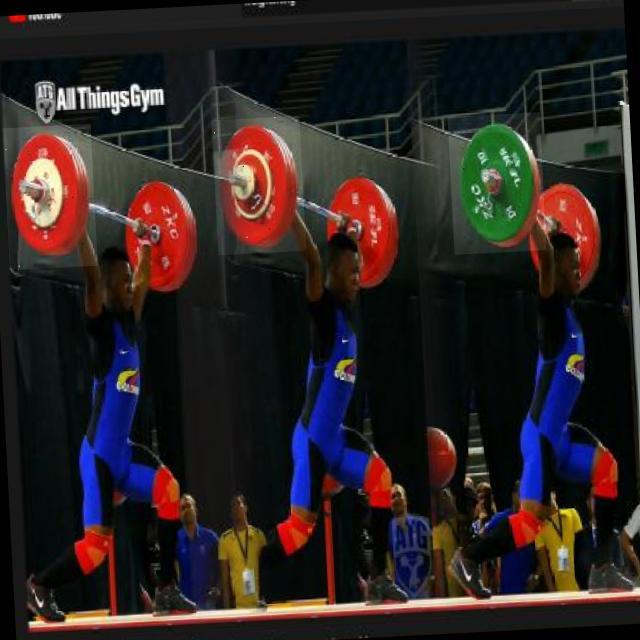barbell: (449, 113, 548, 256), (4, 125, 99, 271), (213, 117, 308, 256)
